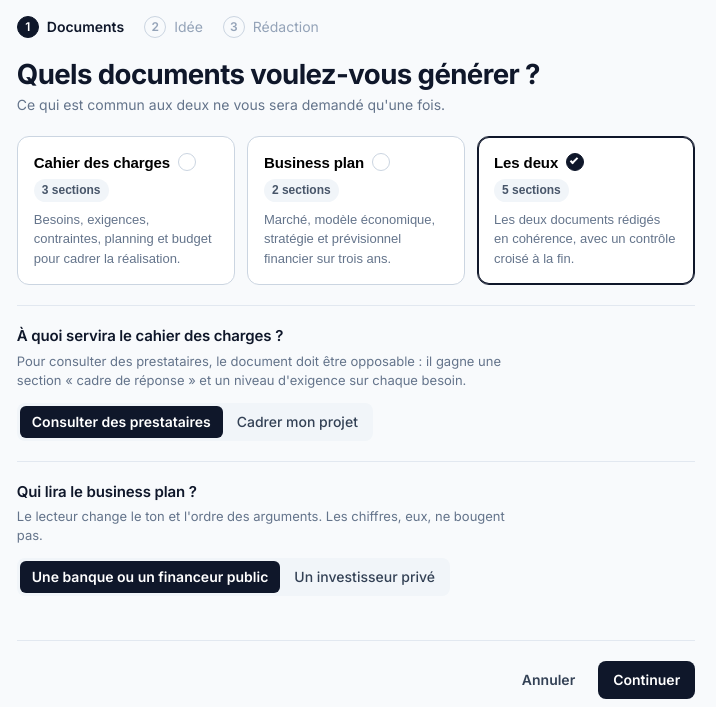
Test: la création d'un projet › refuse un nom ou une idée vides, sans appeler l'API
Click the button "Continuer" at (647,680), box 598,661 -> 695,699
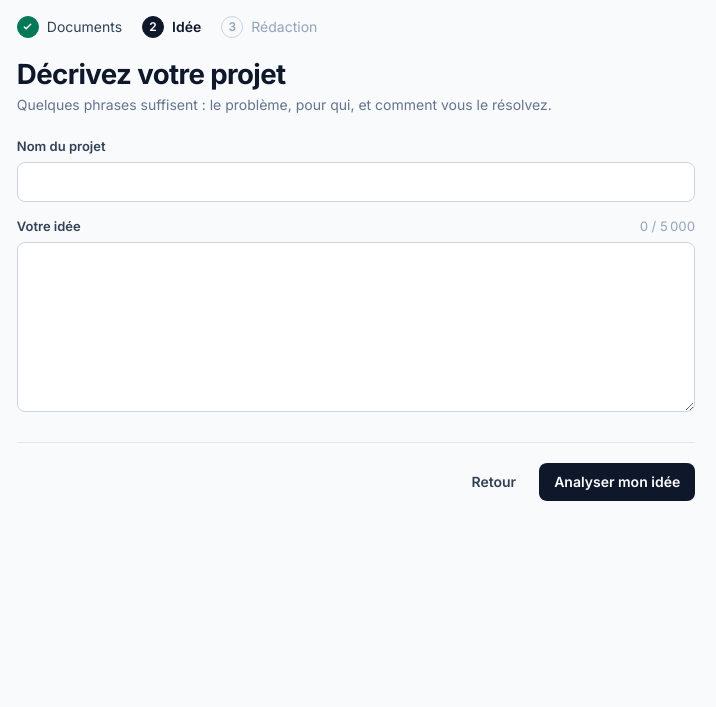
Click the button "Analyser mon idée" at (617,482), box 539,463 -> 695,501
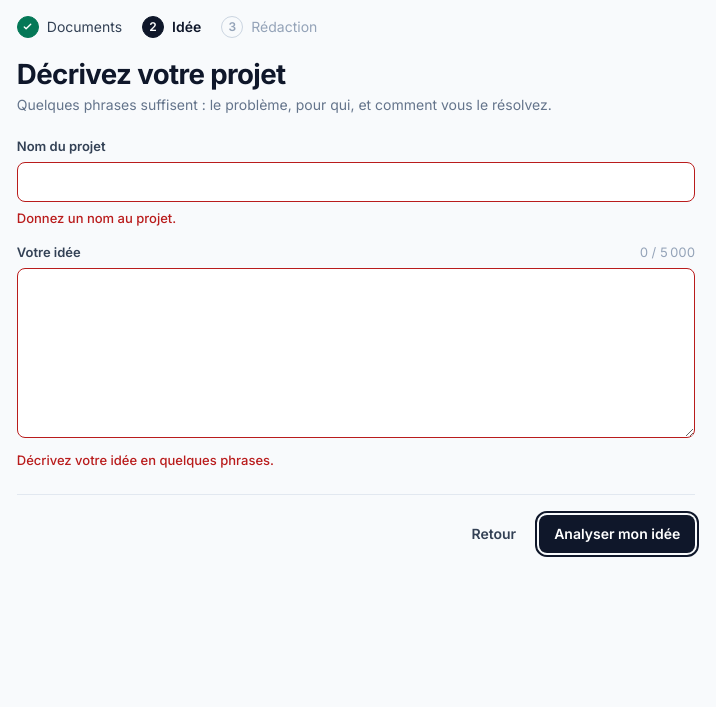
expect the text "Donnez un nom au projet." is shown: met, box 17,210 -> 176,226
expect the text "Décrivez votre idée en quelques phrases." is shown: met, box 17,452 -> 274,468
